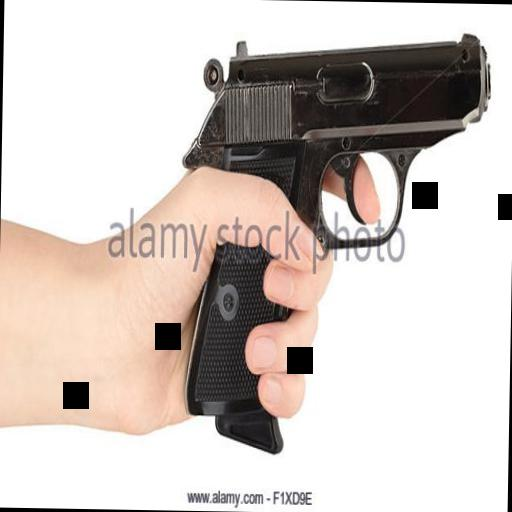Handgun: (173, 28, 494, 444)
